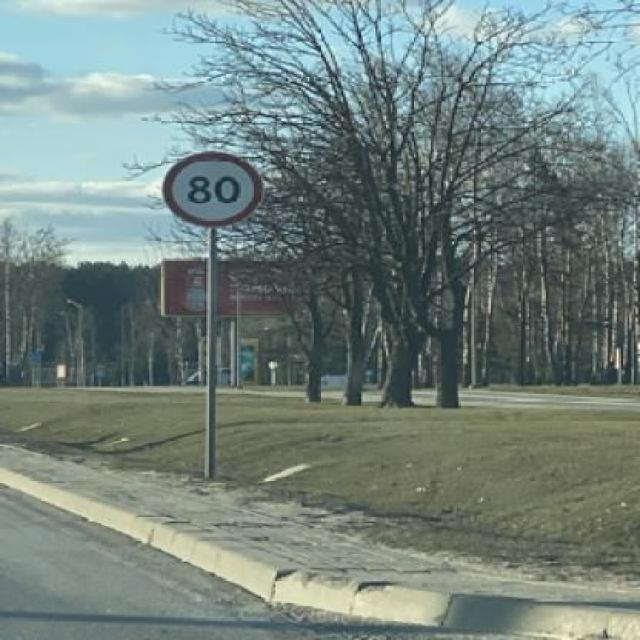forb_speed_over_80: (166, 152, 263, 226)
